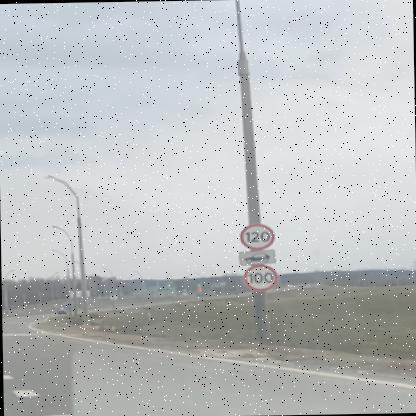speedlimit: (236, 221, 273, 248), (240, 262, 274, 290)
